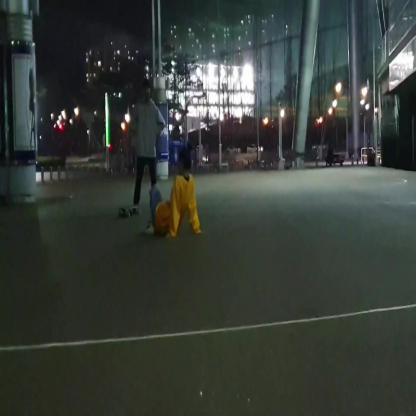Fall_Down: (145, 150, 203, 240)
